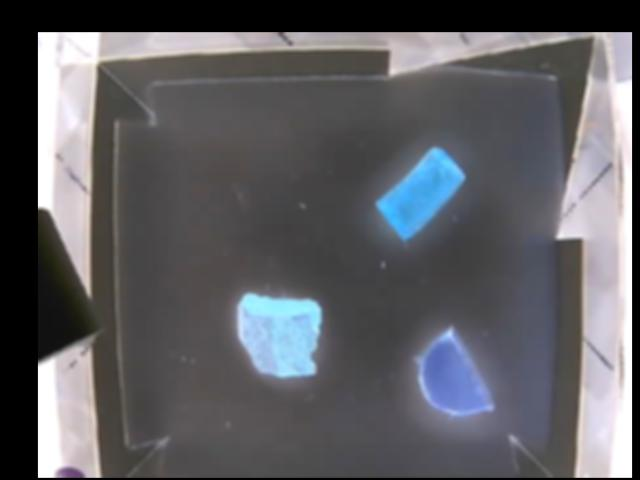Brisk: (237, 293, 322, 378)
Carrot: (373, 145, 468, 242)
Potato: (417, 328, 492, 413)
